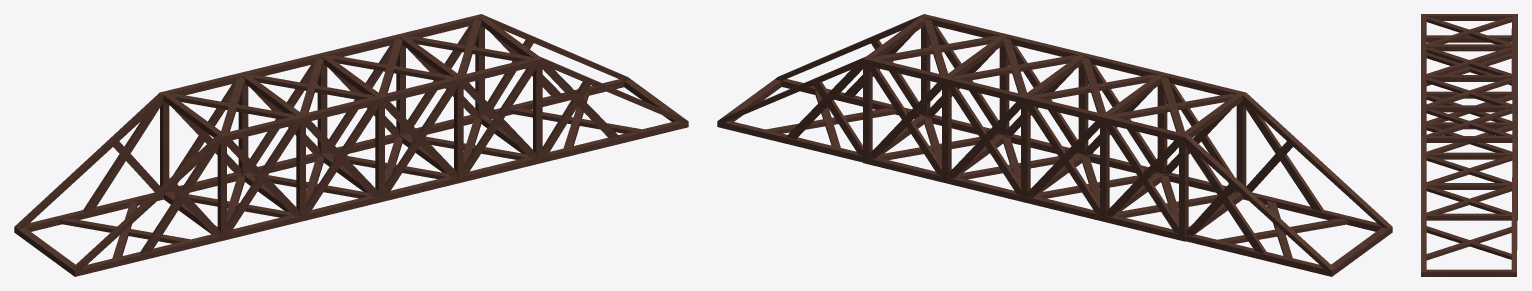
The model's file is Pyramide.fbx.
3 renders of one model, left to right at view 1: azimuth 30°, elevation 25°; view 2: azimuth 150°, elevation 25°; view 3: azimuth 270°, elevation 25°, orthographic. The views are drawn at different scales.
Parts seen in each view (by area): view 1: Cube.132; view 2: Cube.132; view 3: Cube.132.
Boxes of the visible parts, bbox=[...] form: Cube.132: bbox=[14, 14, 688, 276]; Cube.132: bbox=[717, 14, 1392, 276]; Cube.132: bbox=[1421, 14, 1517, 276].
Size of the model in its own units: 1045 by 169 by 180.
